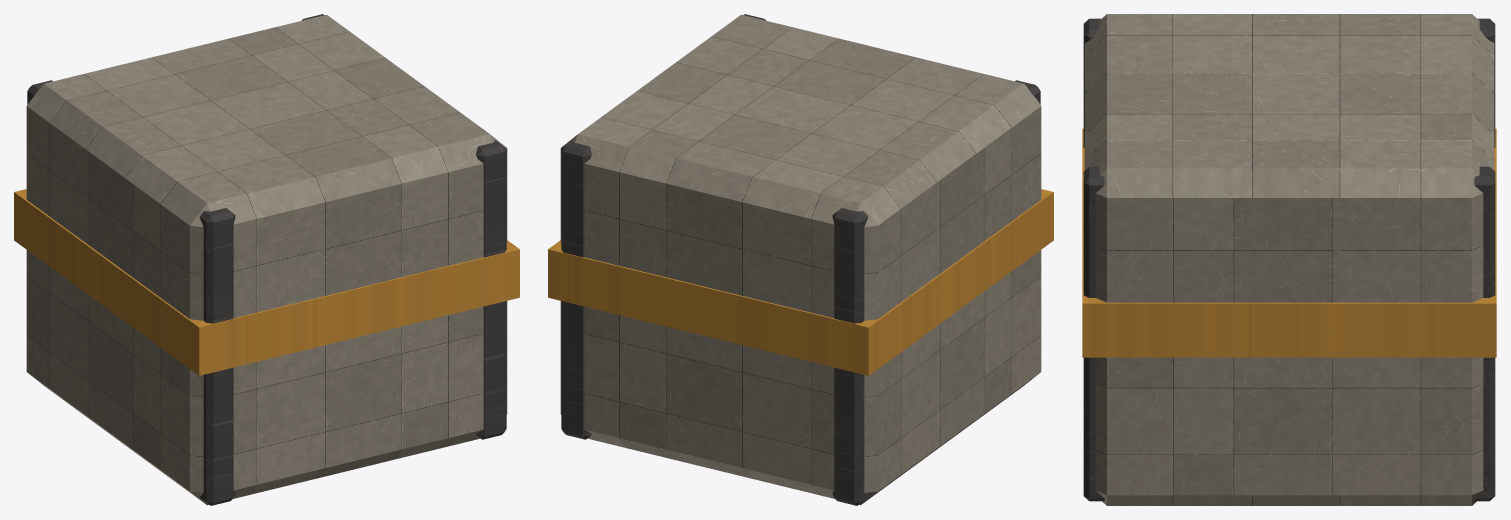
File: prop_crate_s.obj
3 renders of one model, left to right at view 1: azimuth 30°, elevation 25°; view 2: azimuth 150°, elevation 25°; view 3: azimuth 270°, elevation 25°, orthographic. The views are drawn at different scales.
Visible parts, largest first — view 1: prop_crate_s; view 2: prop_crate_s; view 3: prop_crate_s.
Part boxes in pixels (<box>): prop_crate_s: <box>14,14,519,505</box>; prop_crate_s: <box>548,14,1053,505</box>; prop_crate_s: <box>1082,14,1496,505</box>.
Size of the model in its own units: 0.5556 by 0.5 by 0.5556.
1 material, 1 textured.
